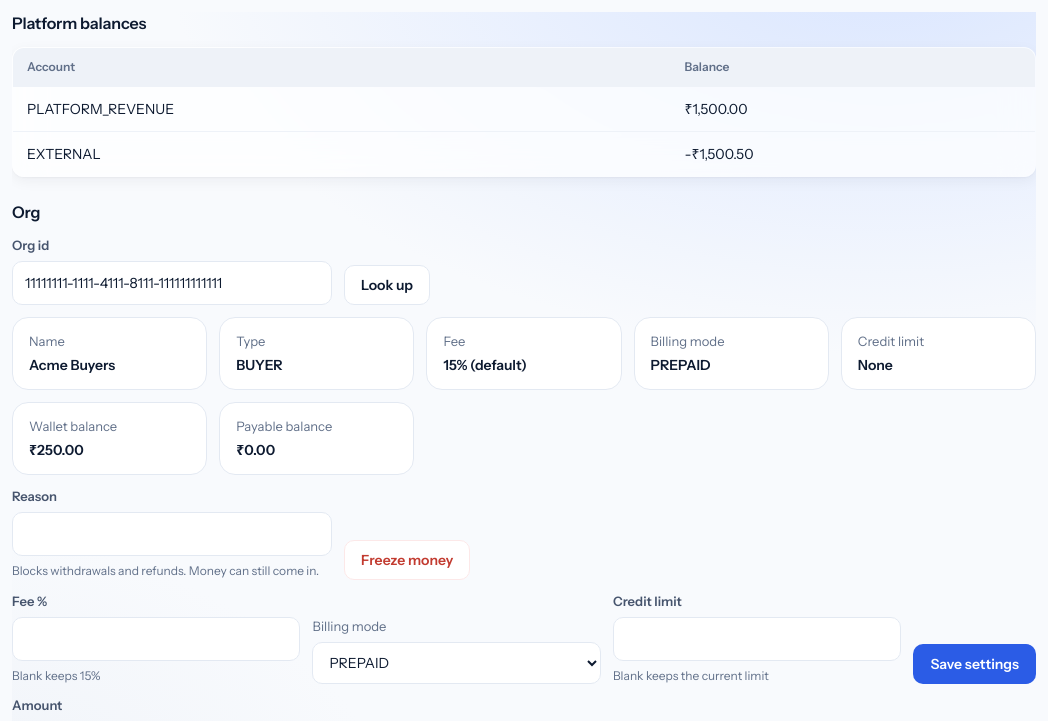
Test: shows a 409 message next to the settings form
The image size is (1048, 721).
Select "POSTPAID" in the dropdown labelled "Billing mode" at (457, 663), box [312,642,601,684]
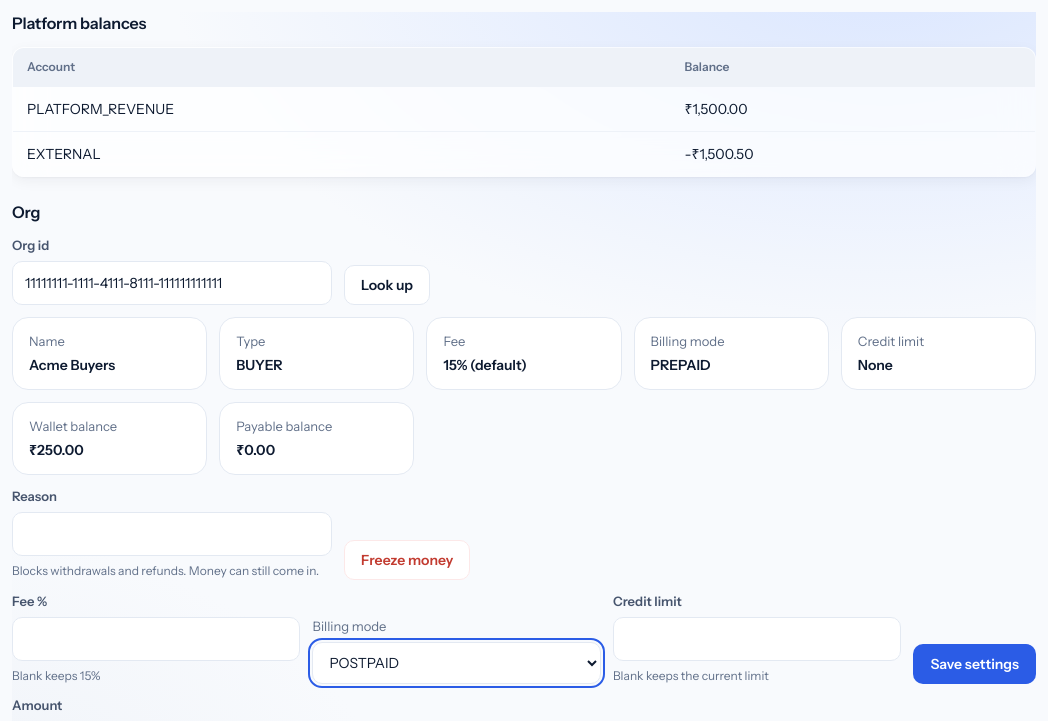
Click the button "Save settings" at (975, 664), box [914,644,1036,684]
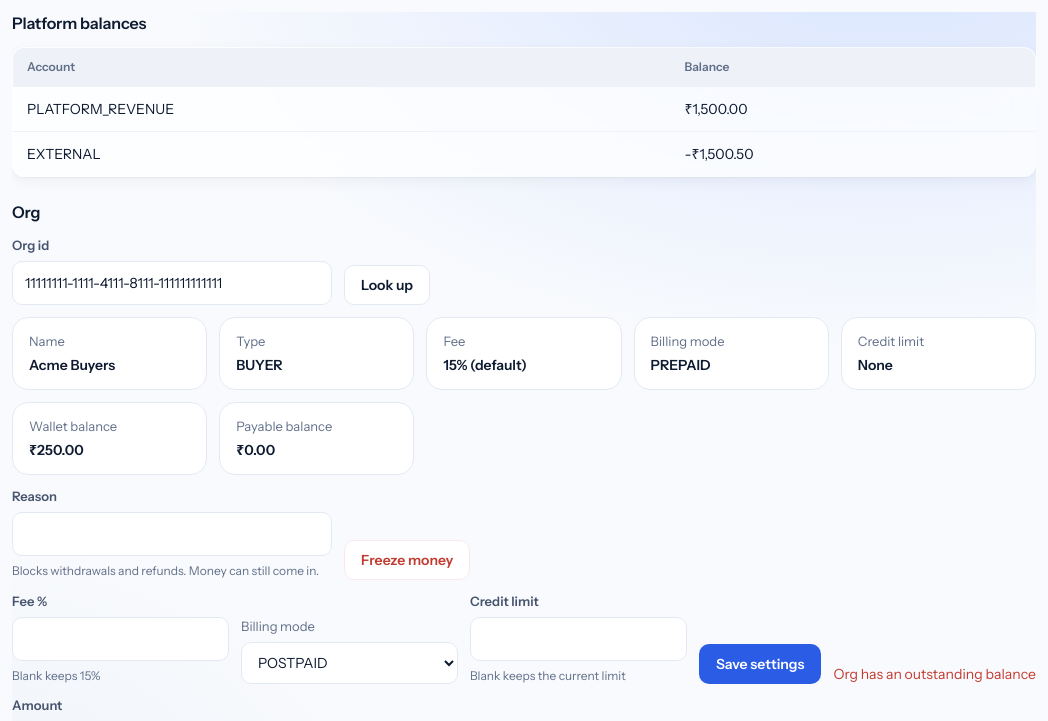
Expected: the text "Org has an outstanding balance" is shown, [833,664,1036,684]
